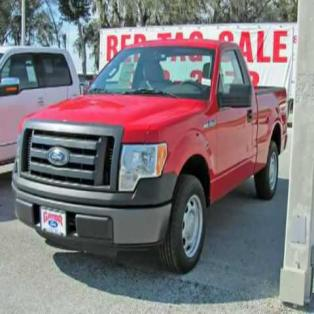Auto: (11, 38, 289, 273)
